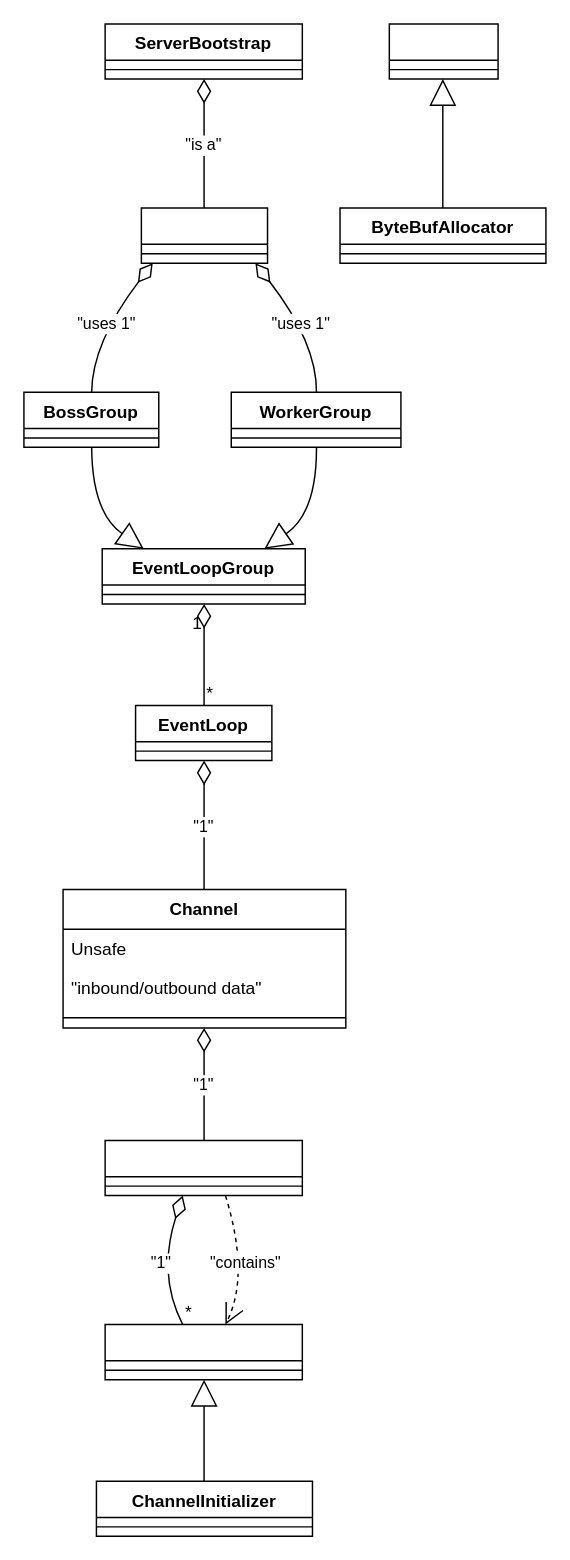
The diagram is 570 pixels wide and 1560 high, and some of its shapes have lost their labels. The shapes that lost their labels are listed below. From the top down, each one's centre as x and y in pixels, then its label:
At pixel 443 50: "ByteBuf".
At pixel 204 235: "Bootstrap".
At pixel 203 1167: "ChannelPipeline".
At pixel 203 1351: "ChannelHandler".
